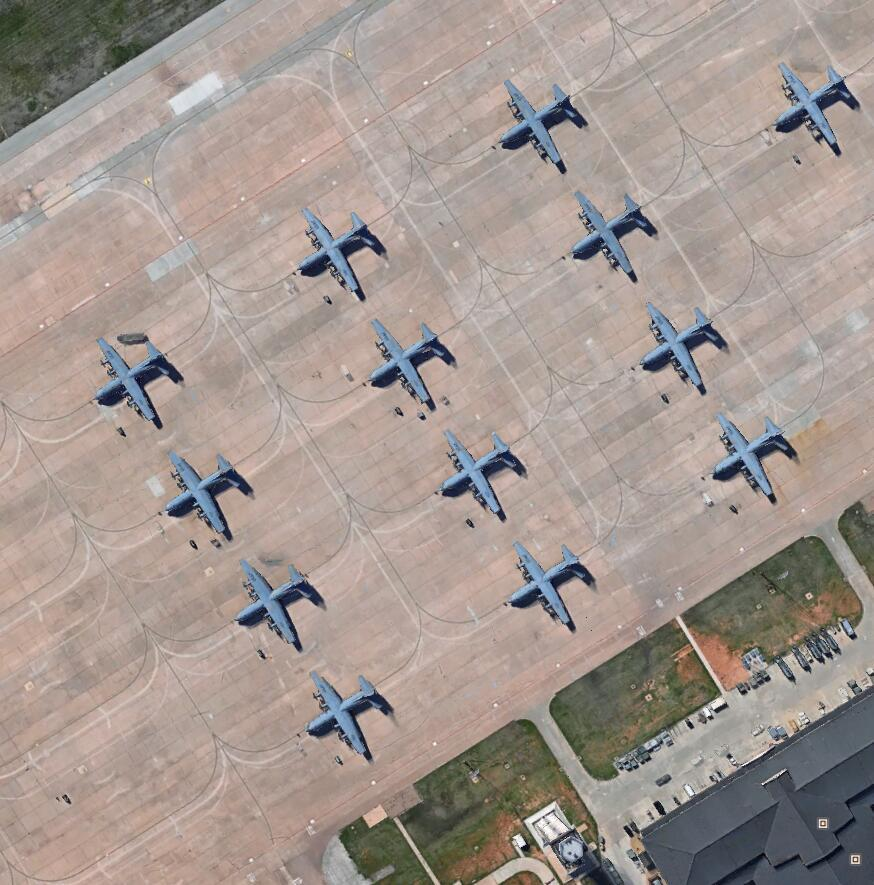A2: (354, 316, 462, 420), (769, 57, 865, 164), (230, 553, 330, 655), (85, 333, 190, 430), (291, 201, 388, 306), (490, 76, 593, 174), (301, 668, 402, 766), (564, 185, 660, 284), (502, 539, 601, 634), (635, 301, 732, 397), (434, 426, 528, 523), (155, 450, 253, 540), (709, 409, 800, 505)
